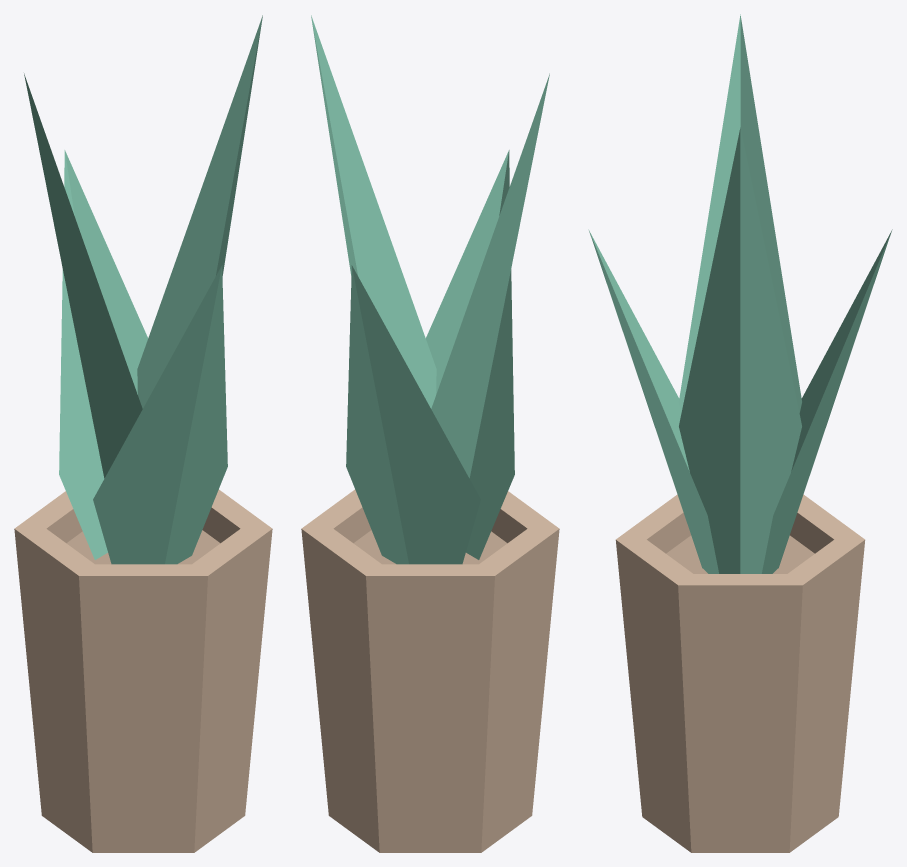
The model's file is plant_tall.glb.
3 renders of one model, left to right at view 1: azimuth 30°, elevation 25°; view 2: azimuth 150°, elevation 25°; view 3: azimuth 270°, elevation 25°, orthographic. The views are drawn at different scales.
Parts seen in each view (by area): view 1: pottedPlant(Clone), plant; view 2: pottedPlant(Clone), plant; view 3: pottedPlant(Clone), plant.
Boxes of the visible parts, box(x1,y1,x2,y2) form: pottedPlant(Clone): box(14, 489, 272, 852); plant: box(24, 15, 262, 564); pottedPlant(Clone): box(301, 489, 559, 852); plant: box(311, 15, 549, 564); pottedPlant(Clone): box(615, 494, 865, 852); plant: box(588, 14, 892, 573).
Bounding box in the file's own units: 0.4453 × 1.37 × 0.5071.
